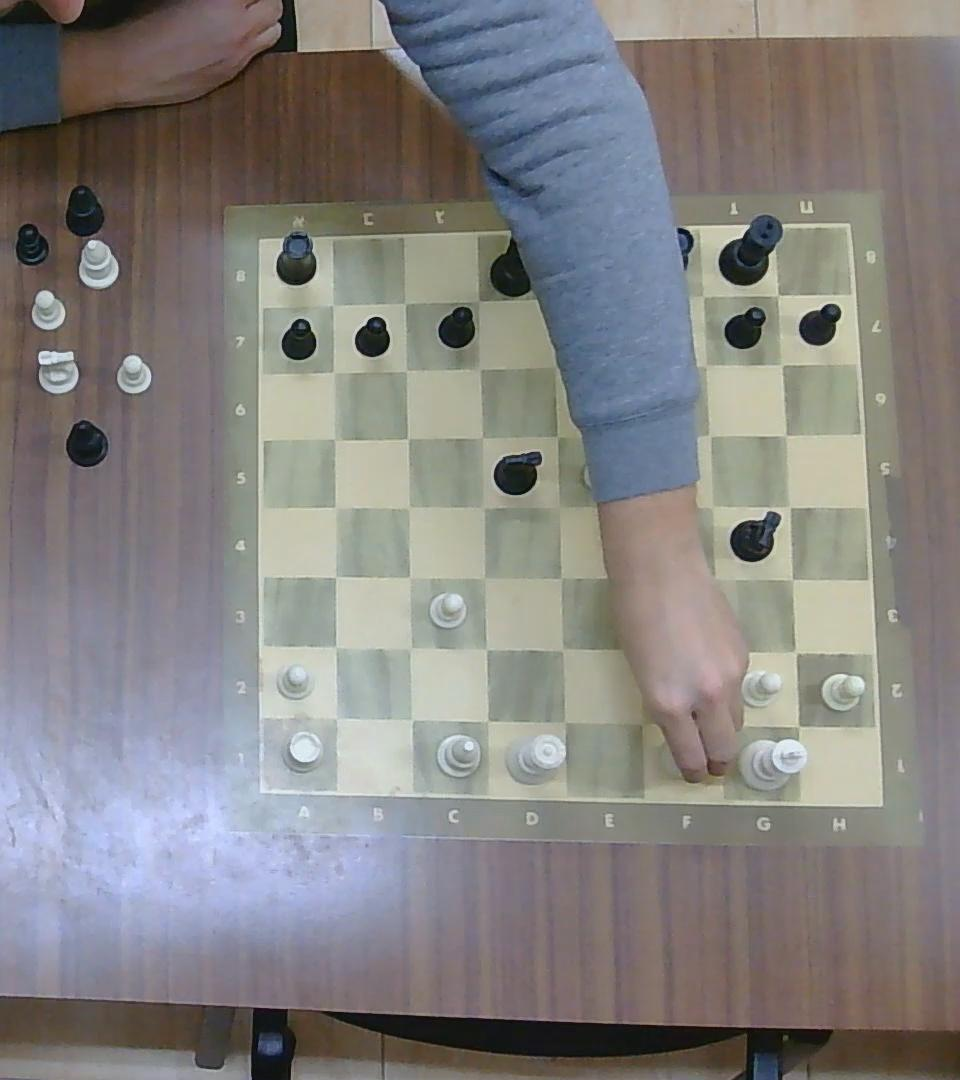xcorner: (530, 280, 563, 313), (780, 634, 812, 668), (546, 633, 578, 665), (782, 707, 813, 740), (548, 705, 579, 738), (470, 704, 501, 736), (468, 561, 500, 592), (626, 704, 657, 736), (706, 707, 737, 739), (394, 703, 425, 734), (470, 632, 501, 663), (320, 701, 350, 733), (320, 630, 350, 662), (776, 563, 806, 594), (393, 561, 423, 592), (625, 561, 655, 592), (621, 634, 651, 664), (394, 632, 423, 663), (699, 563, 728, 594), (320, 560, 349, 590), (774, 491, 804, 520), (465, 353, 495, 382), (622, 491, 651, 521), (619, 420, 648, 450), (612, 281, 640, 312), (393, 491, 422, 520), (469, 491, 498, 520), (321, 491, 350, 520), (547, 562, 576, 591), (771, 419, 800, 448), (689, 280, 717, 310), (704, 636, 732, 666), (542, 350, 572, 378), (317, 291, 346, 319), (698, 491, 726, 520), (544, 421, 573, 449), (545, 491, 573, 520), (689, 350, 718, 378), (318, 357, 346, 385), (467, 421, 495, 449), (393, 422, 420, 451), (320, 422, 347, 451), (694, 420, 723, 447), (618, 349, 644, 379), (767, 349, 795, 376), (765, 281, 791, 308), (392, 356, 418, 382), (466, 287, 491, 313), (393, 289, 418, 314)
